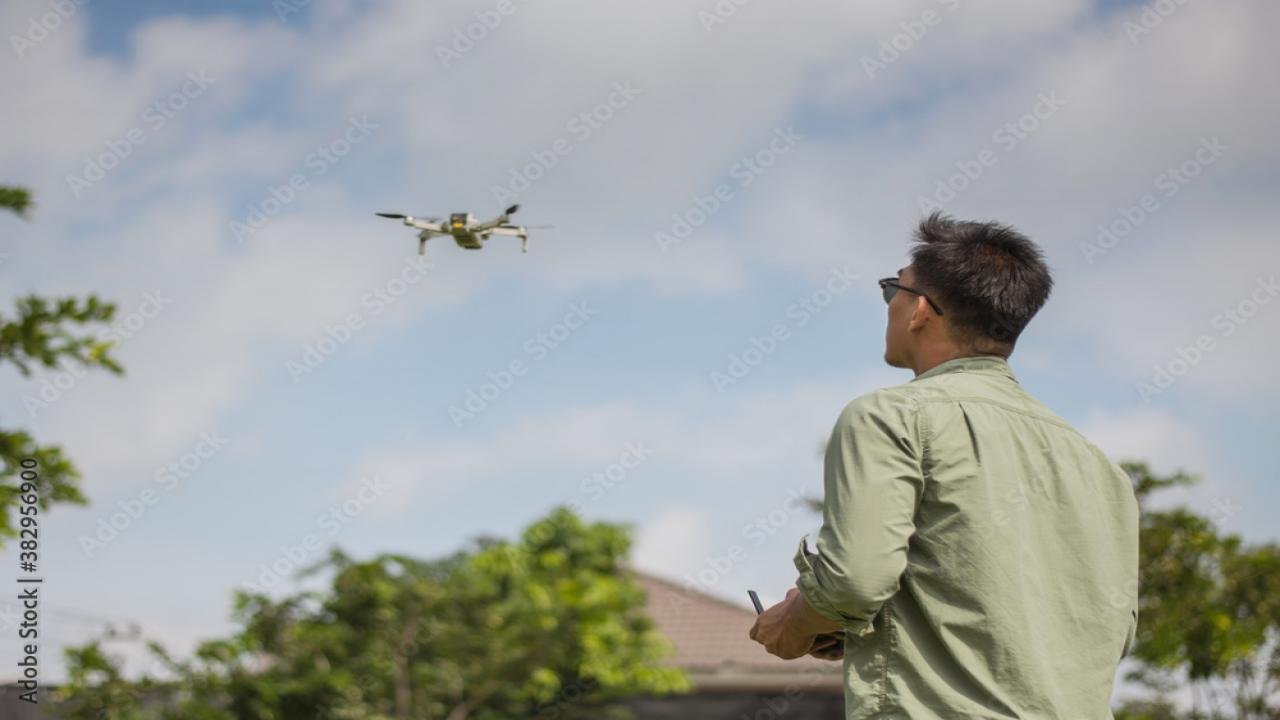Drone: (359, 192, 545, 267)
